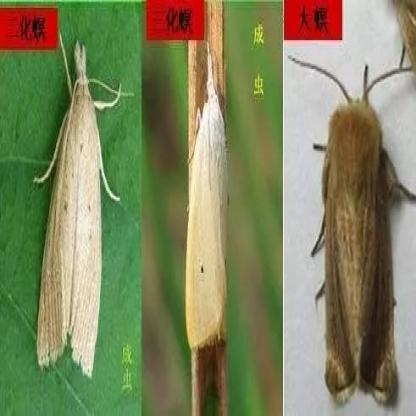stem-borer: (305, 51, 416, 415), (33, 32, 135, 386), (184, 47, 233, 353)
